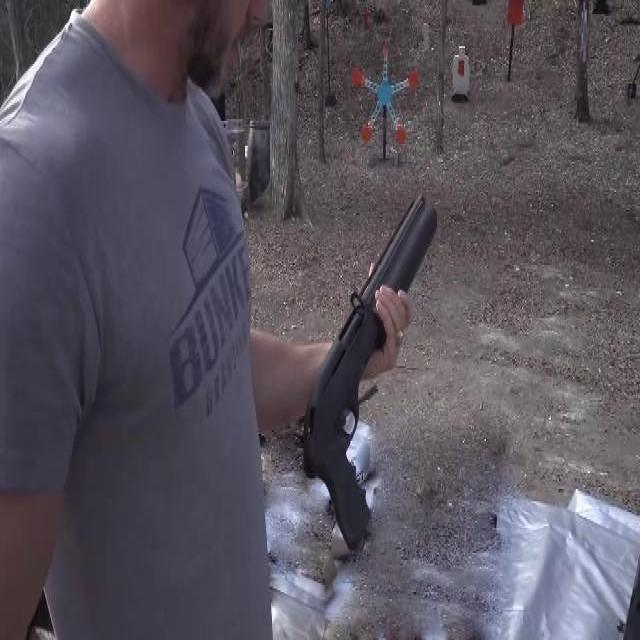pistol: (304, 202, 434, 554)
